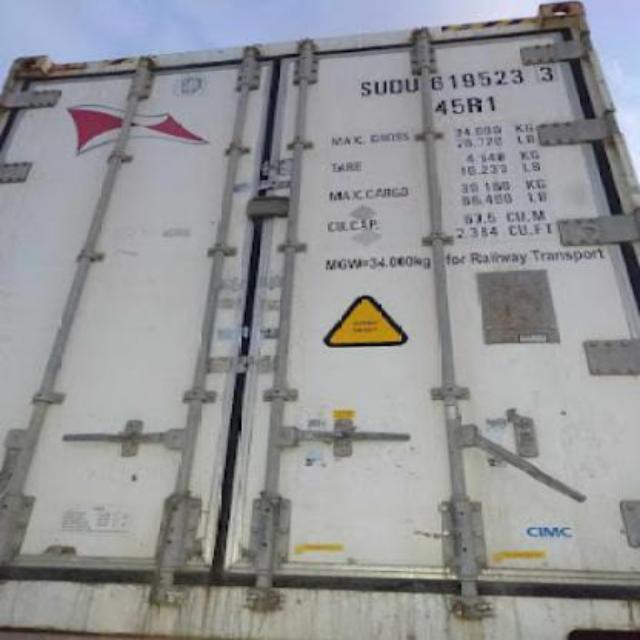1: (448, 72, 462, 90)
2: (492, 67, 510, 87)
3: (510, 65, 526, 85), (536, 65, 556, 81)
5: (478, 69, 492, 85)
6: (431, 73, 444, 91)
9: (460, 70, 476, 90)
D: (388, 76, 406, 96)
S: (356, 81, 374, 97)
U: (400, 75, 420, 95), (374, 78, 390, 94)
